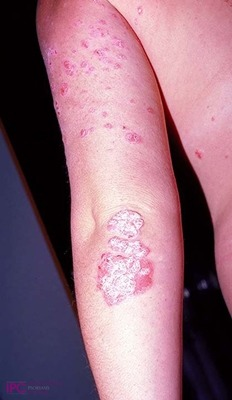Psoriasis: (93, 204, 157, 313), (127, 133, 149, 146), (76, 127, 91, 140)
